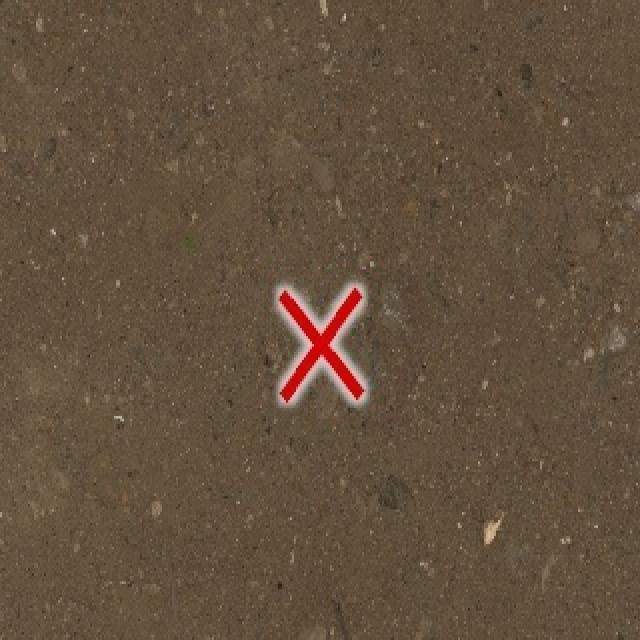x_marker: (279, 286, 363, 398)
